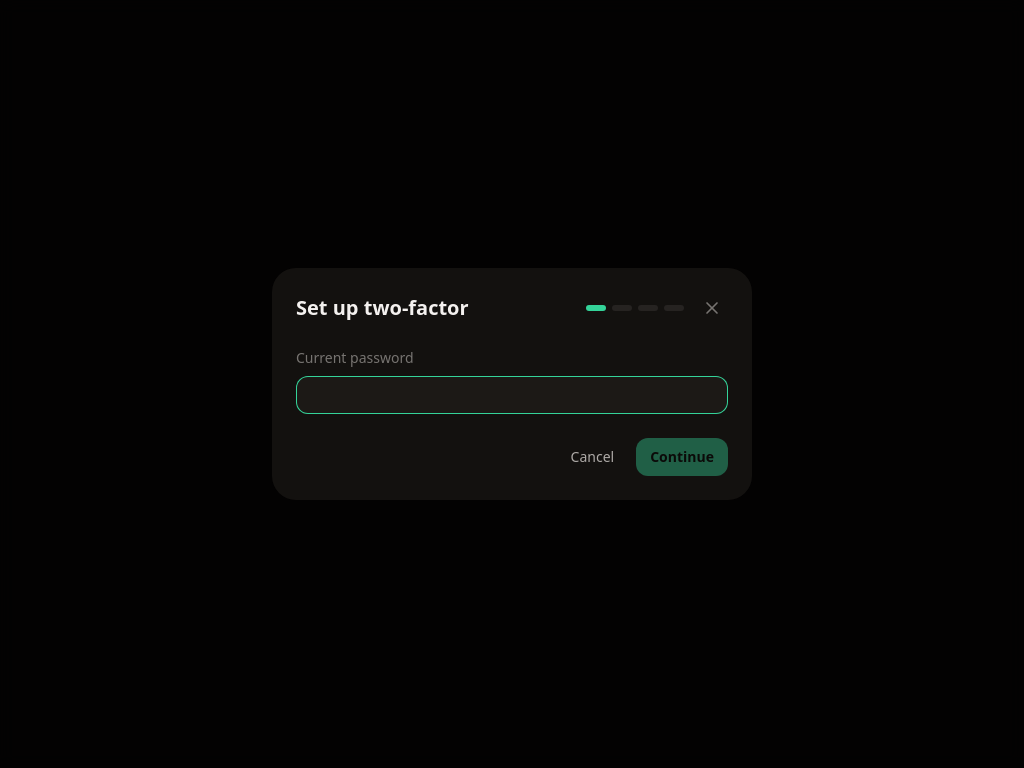
Scenario: TotpSetupModal › shows the wait in minutes when the password check is throttled
The width and height of the screenshot is (1024, 768).
Type "nope" into the password field labelled "Current password". click: point(512, 395)
box: [296,376,728,414]
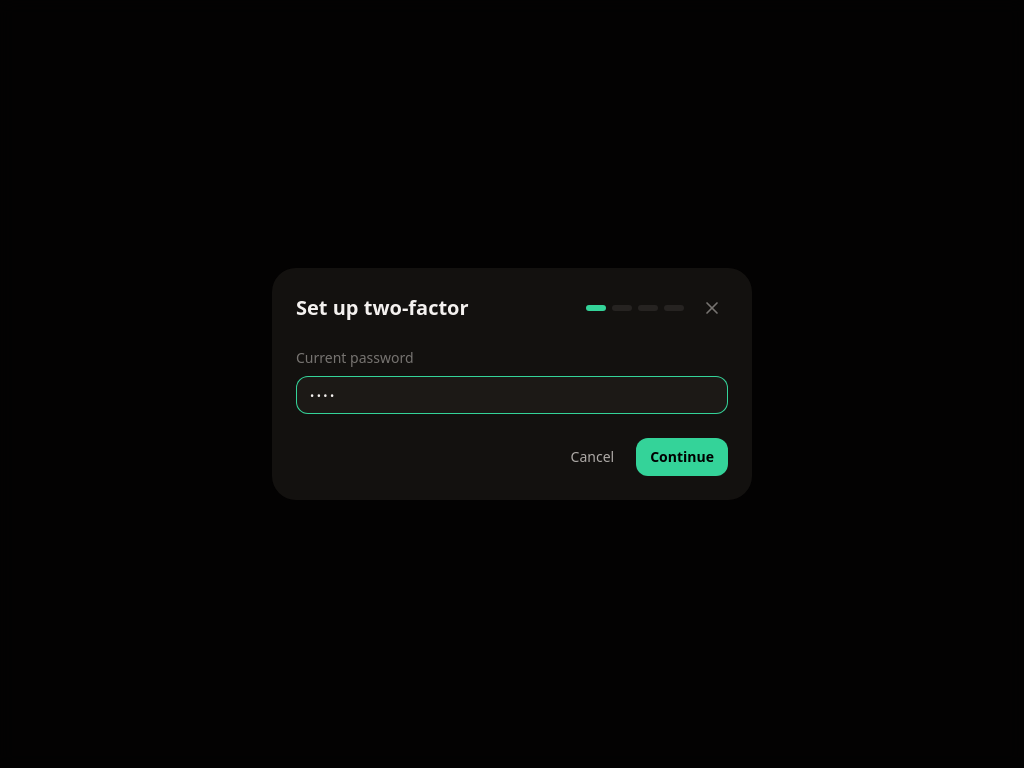
Click the button "Continue". click: point(682, 457)
box: [636,438,728,476]
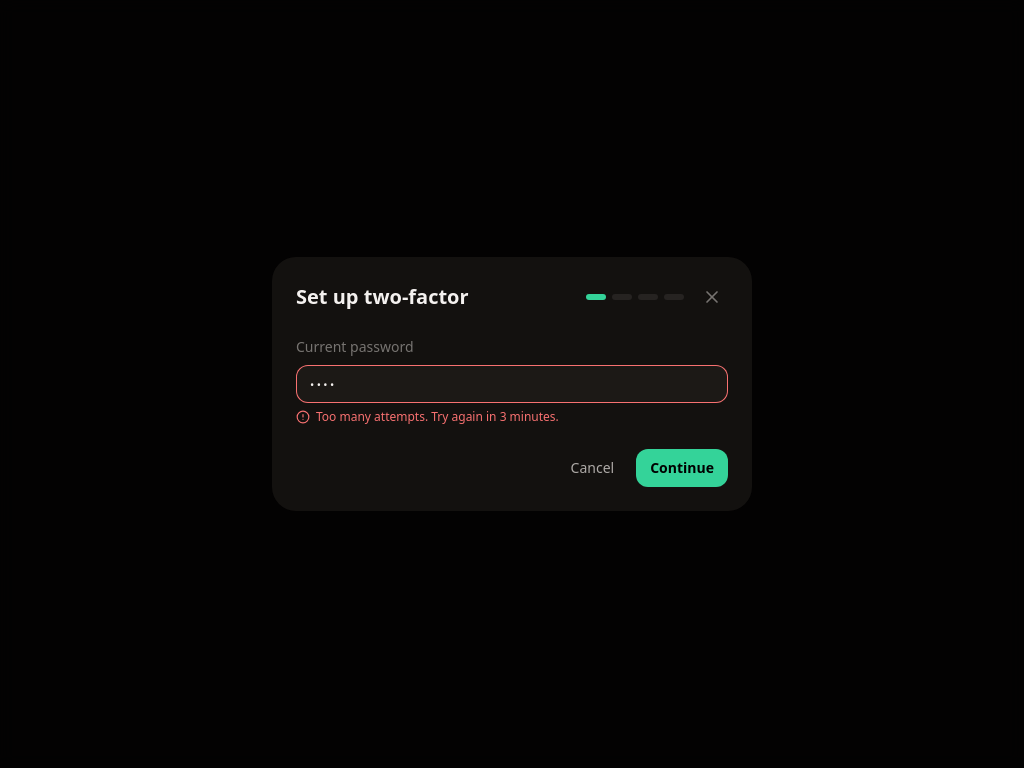
Now the text "Too many attempts. Try again in 3 minutes." is shown, box [296,408,559,425]
